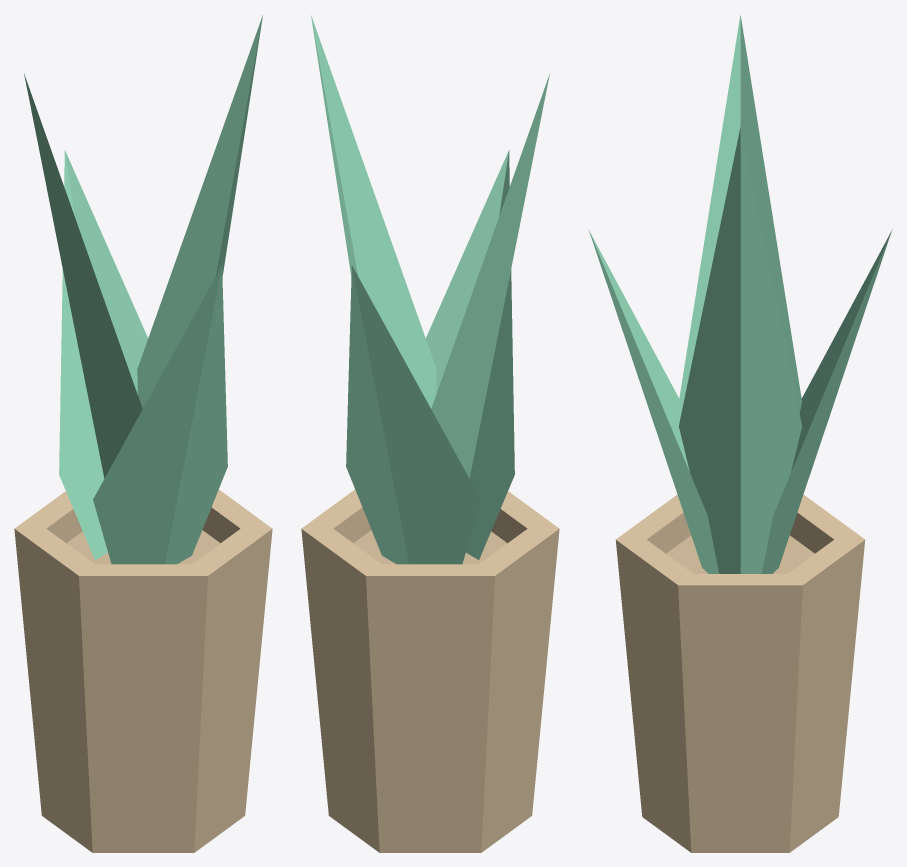
The model's file is potted-plant.glb.
The picture shows the model from 3 angles, left to right: view 1: azimuth 30°, elevation 25°; view 2: azimuth 150°, elevation 25°; view 3: azimuth 270°, elevation 25°; orthographic projection. The views are drawn at different scales.
Visible parts, largest first — view 1: pottedPlant, plant; view 2: pottedPlant, plant; view 3: pottedPlant, plant.
Boxes of the visible parts, <box> form: pottedPlant: <box>14,489,272,852</box>; plant: <box>24,15,262,564</box>; pottedPlant: <box>301,489,559,852</box>; plant: <box>311,15,549,564</box>; pottedPlant: <box>615,494,865,852</box>; plant: <box>588,14,892,573</box>.
Size of the model in its own units: 2.12 by 6.54 by 2.41.
